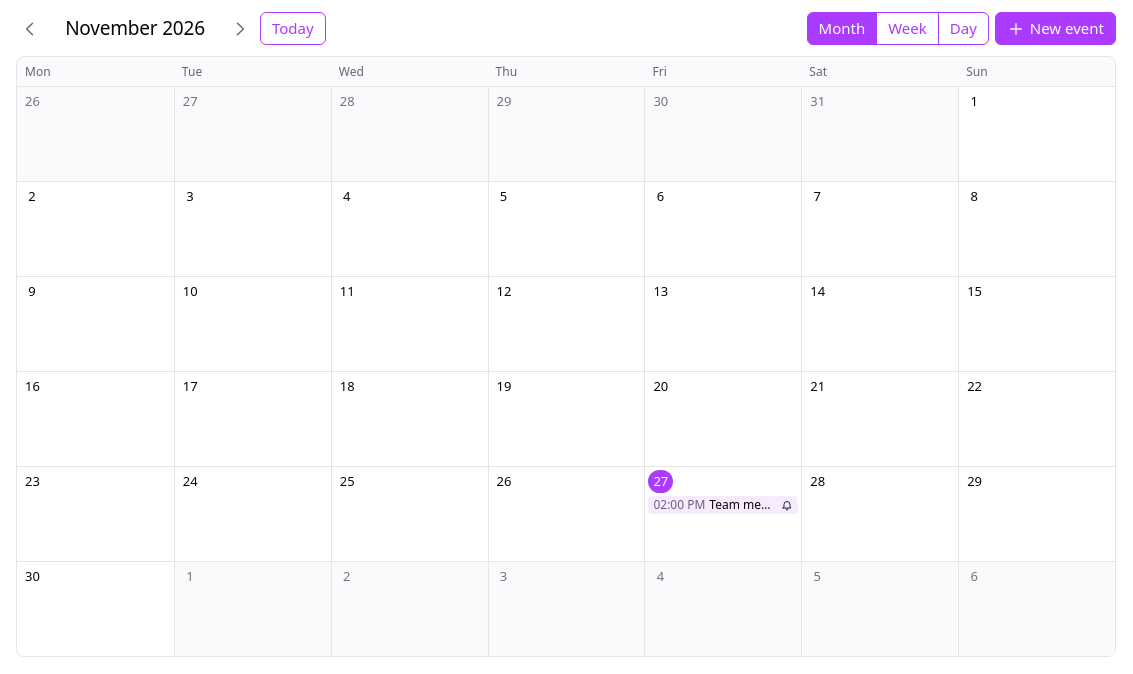
it: Calendar: week and day views › switches to a week of seven days and a single day
The image size is (1133, 674).
Expected: the button "02:00 PM Team meeting" is shown, [648,496,798,514]
Click the button "Week" at (908, 28), box [876,12,939,45]
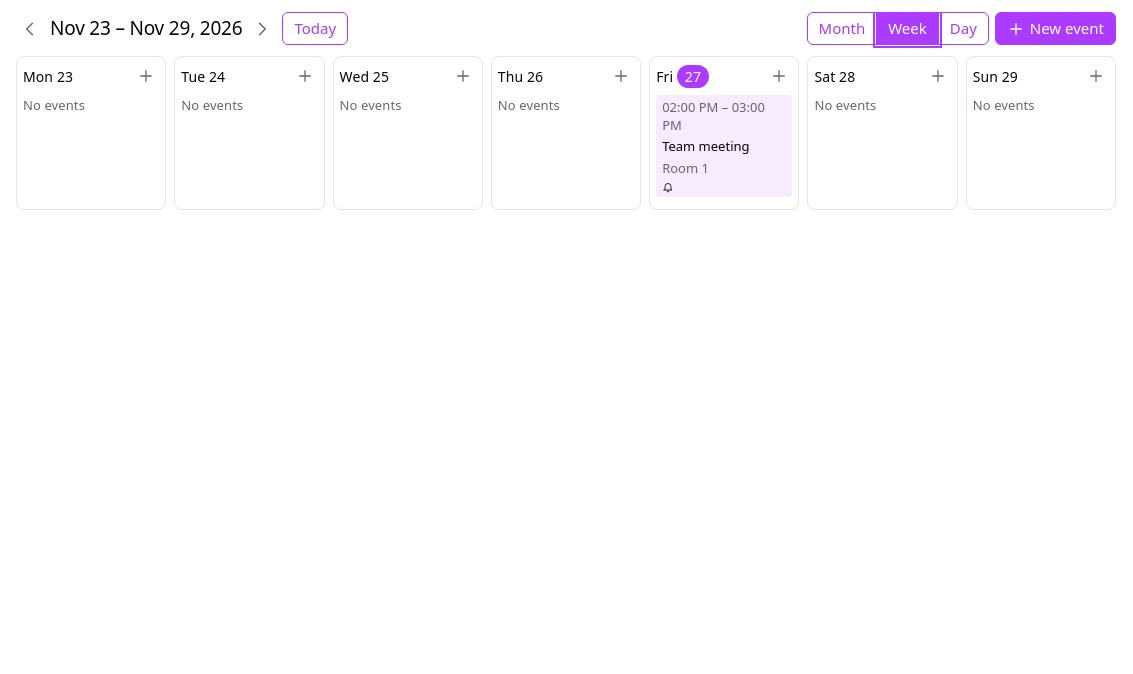
Now the button "02:00 PM – 03:00 PM Team meeting Room 1" is shown, box [656,95,792,197]
Now the button named "Next week" is shown, box [248,14,276,42]
Click the button "Day" at (963, 28), box [938,12,989,45]
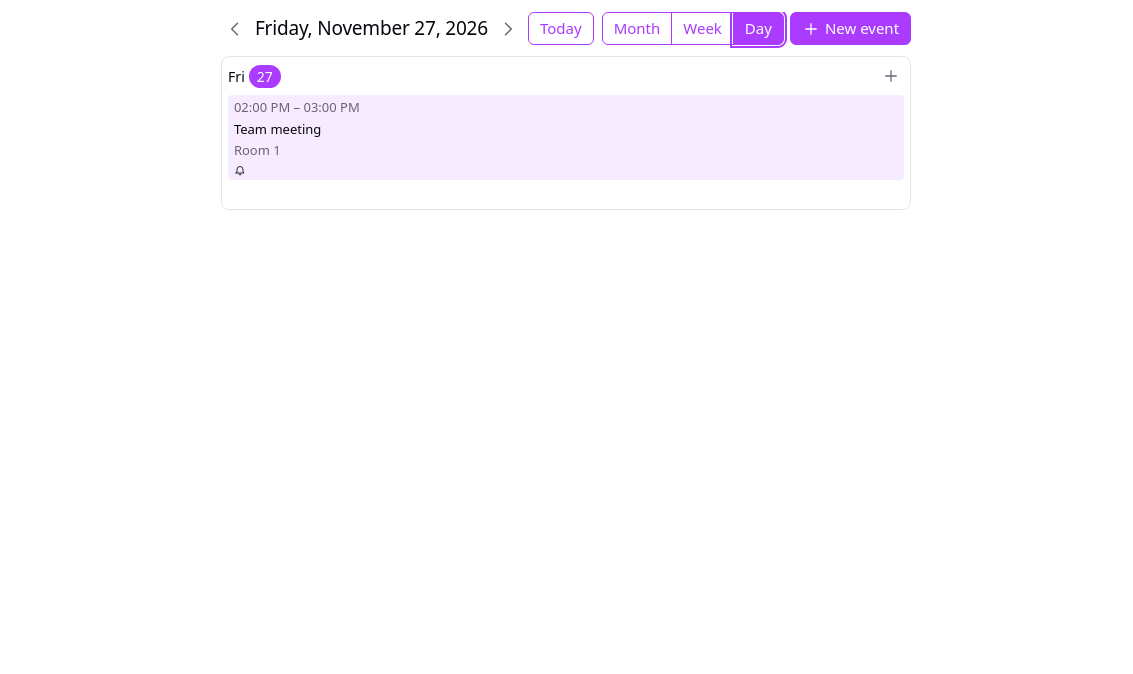
Expected: the button "02:00 PM – 03:00 PM Team meeting Room 1" is shown, [228,95,904,180]
Click the button named "Next day" at (508, 28), box [494,14,522,42]
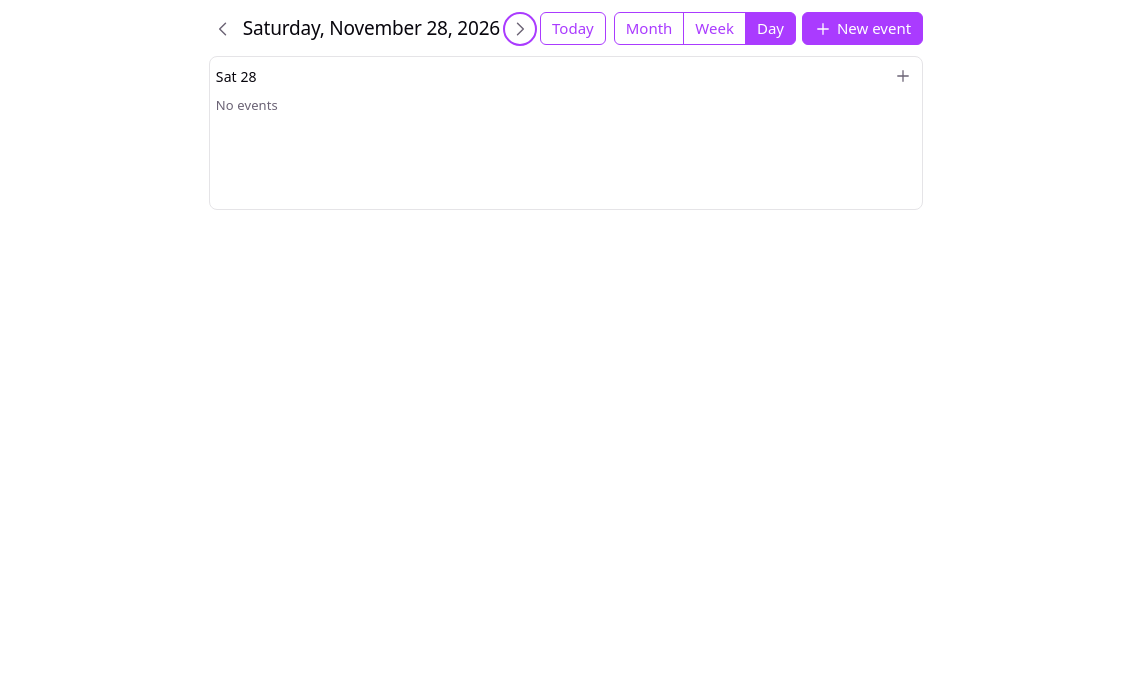
Now the button "Team meeting" is gone
Now the text "No events" is shown, box [216,96,278,114]
Click the button "Today" at (573, 28), box [540,12,606,45]
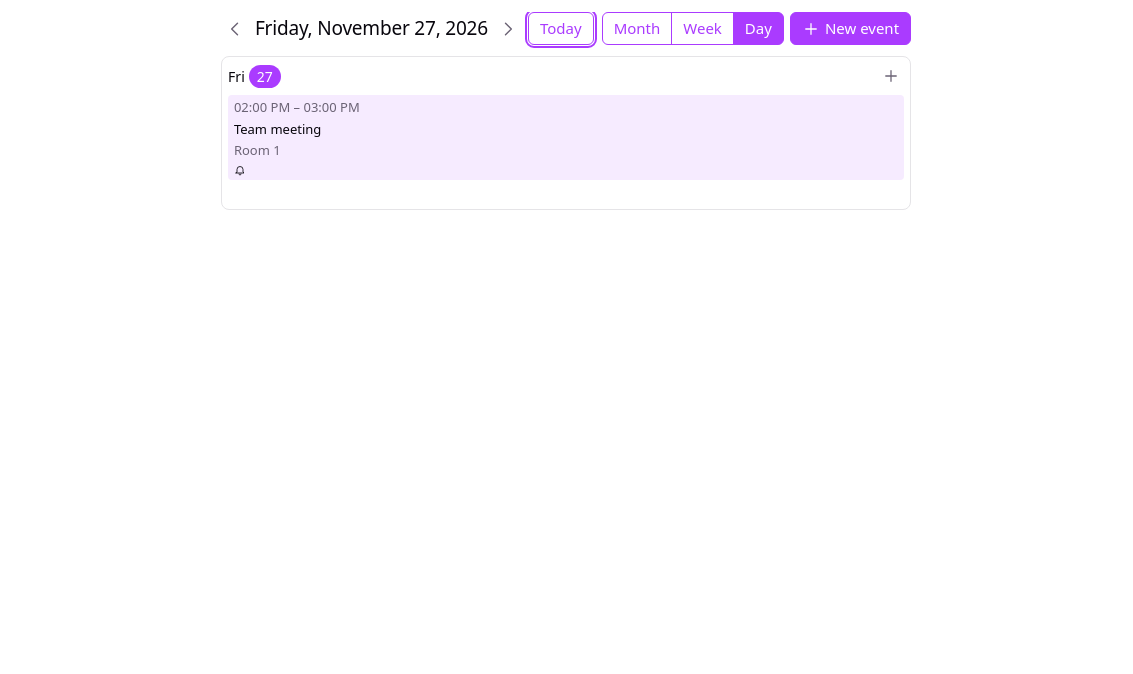
Now the button "02:00 PM – 03:00 PM Team meeting Room 1" is shown, box [228,95,904,180]
